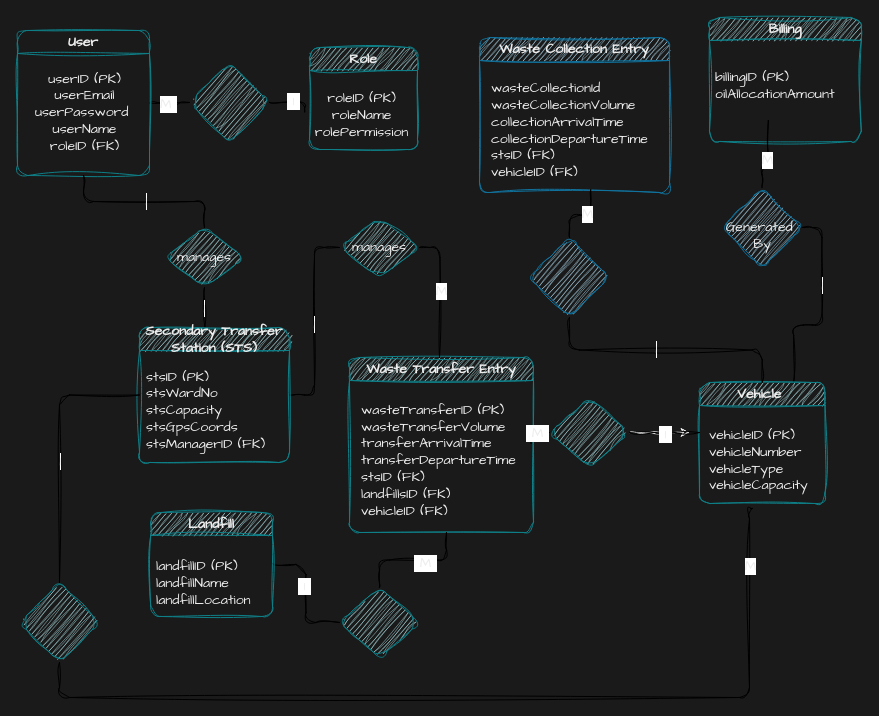
The diagram is 879 pixels wide and 716 high, and some of its shapes have lost their labels. The shapes that lost their labels are listed below. From the top down, each one's centre as x and y in pixels, then its label:
point 229,102: is associated with
point 569,277: Collected by
point 589,432: transferred by
point 59,622: Assigns
point 379,622: receives
